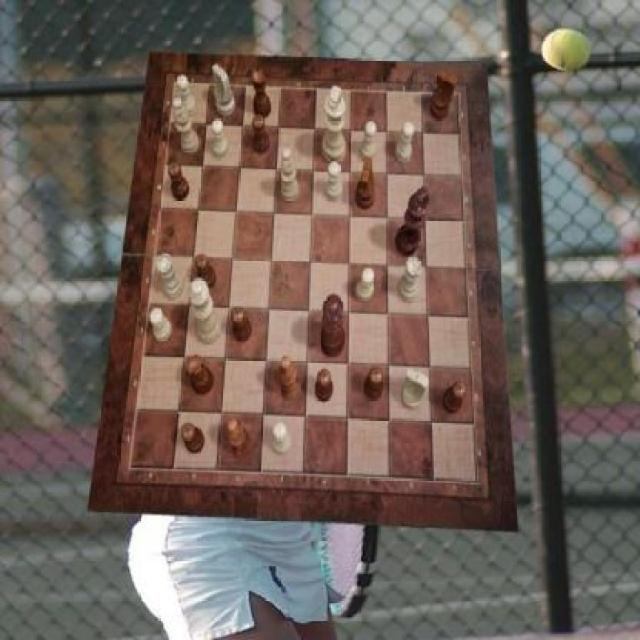bishop: (228, 417, 252, 458), (278, 357, 300, 399)
black-bishop: (395, 186, 431, 257)
black-king: (431, 69, 458, 122), (356, 157, 376, 211)
black-knight: (195, 254, 218, 290), (443, 382, 466, 416), (182, 423, 206, 454), (168, 162, 188, 199), (252, 114, 270, 154), (364, 368, 384, 402), (232, 308, 252, 342), (315, 369, 333, 403)
black-pawn: (320, 294, 346, 358)
black-queen: (186, 354, 214, 395), (252, 68, 272, 119)
black-rook: (172, 97, 200, 155), (280, 149, 300, 203)
white-bishop: (322, 86, 346, 165)
white-king: (212, 65, 235, 117), (402, 368, 429, 410)
white-knight: (177, 75, 197, 117), (151, 308, 174, 342), (396, 122, 414, 163), (212, 120, 230, 160), (272, 422, 292, 456), (359, 123, 376, 163), (326, 163, 343, 202), (356, 268, 374, 302)
white-pawn: (188, 278, 222, 344)
white-queen: (157, 254, 185, 300), (398, 257, 422, 302)
